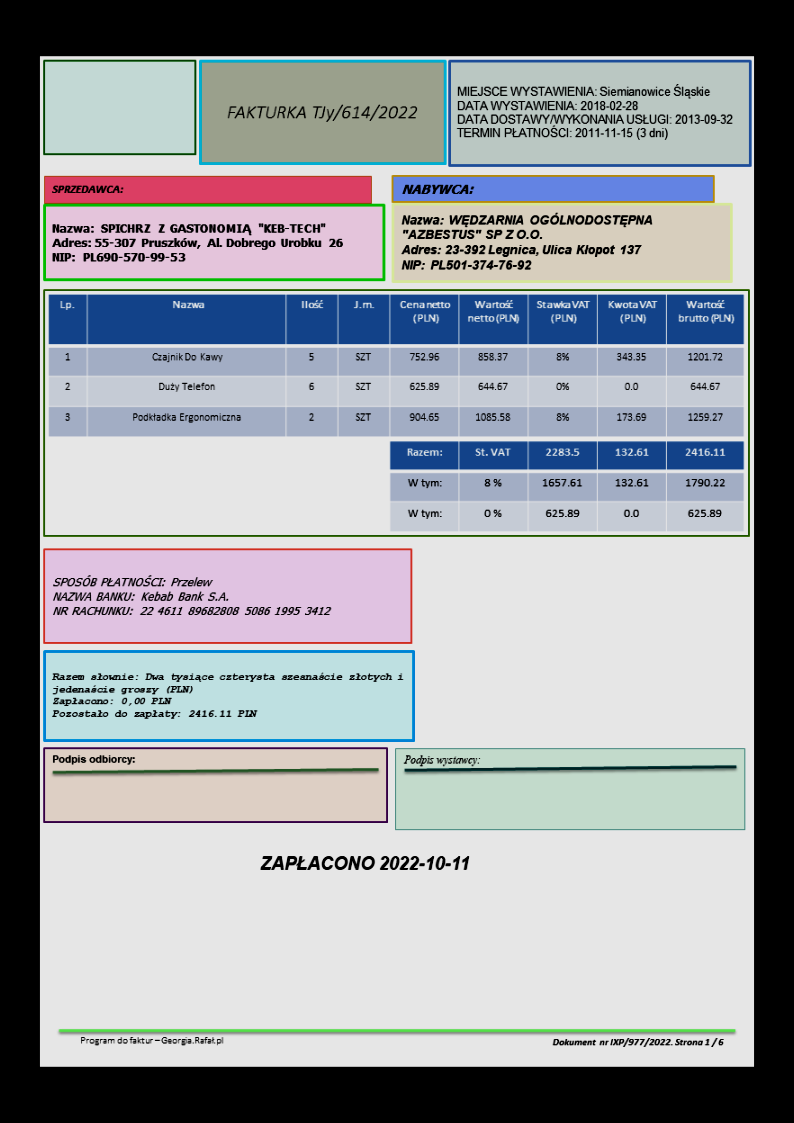Table: (47, 293, 744, 437), (389, 440, 745, 532)
TextBox: (51, 671, 403, 720), (455, 83, 734, 143), (399, 212, 654, 271), (51, 221, 344, 265), (50, 574, 332, 618), (258, 852, 472, 872), (224, 103, 418, 122), (550, 1036, 725, 1049), (78, 1034, 225, 1047), (401, 751, 481, 768), (50, 752, 137, 767), (49, 181, 124, 197), (400, 181, 475, 197)
